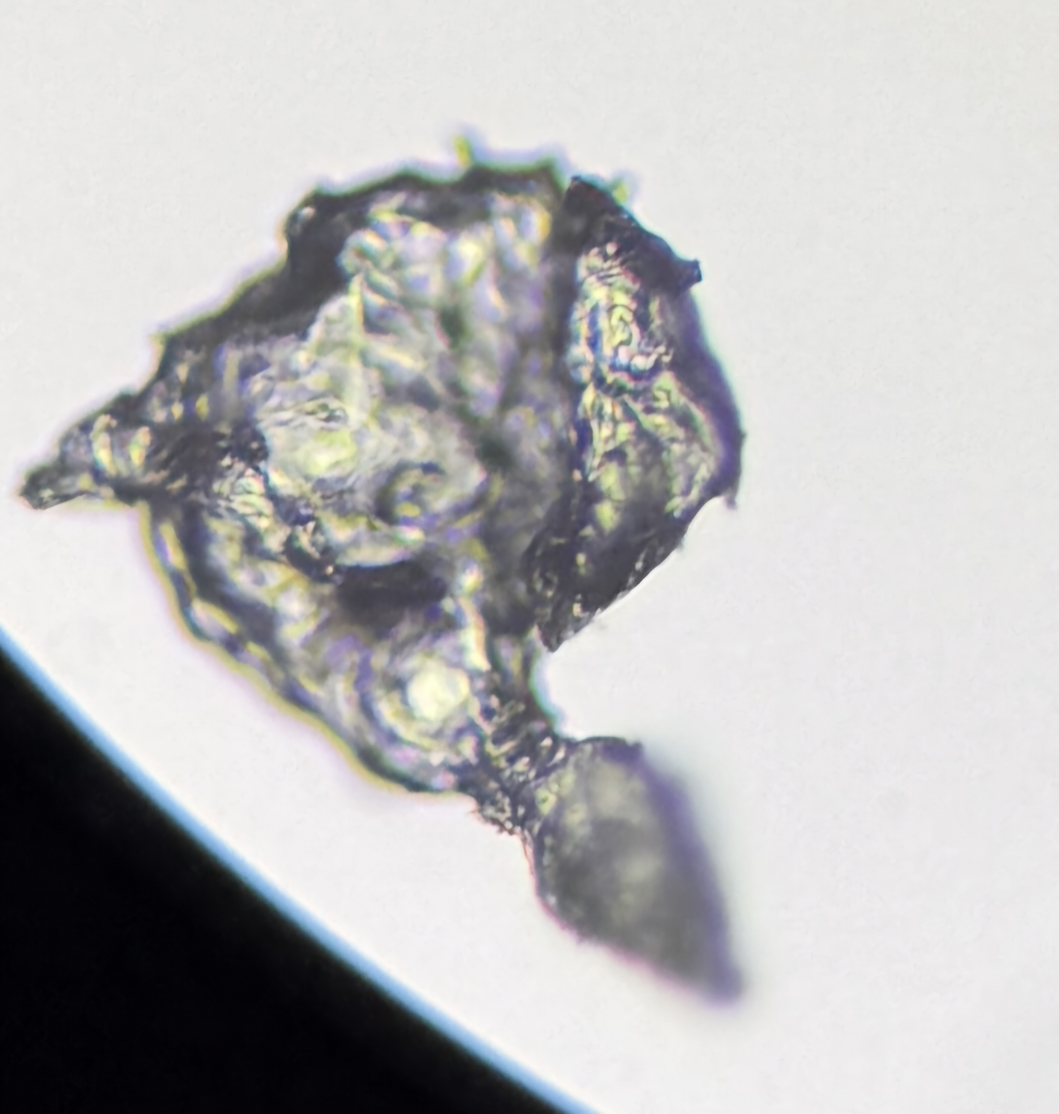microplastic: (17, 158, 747, 1008)
